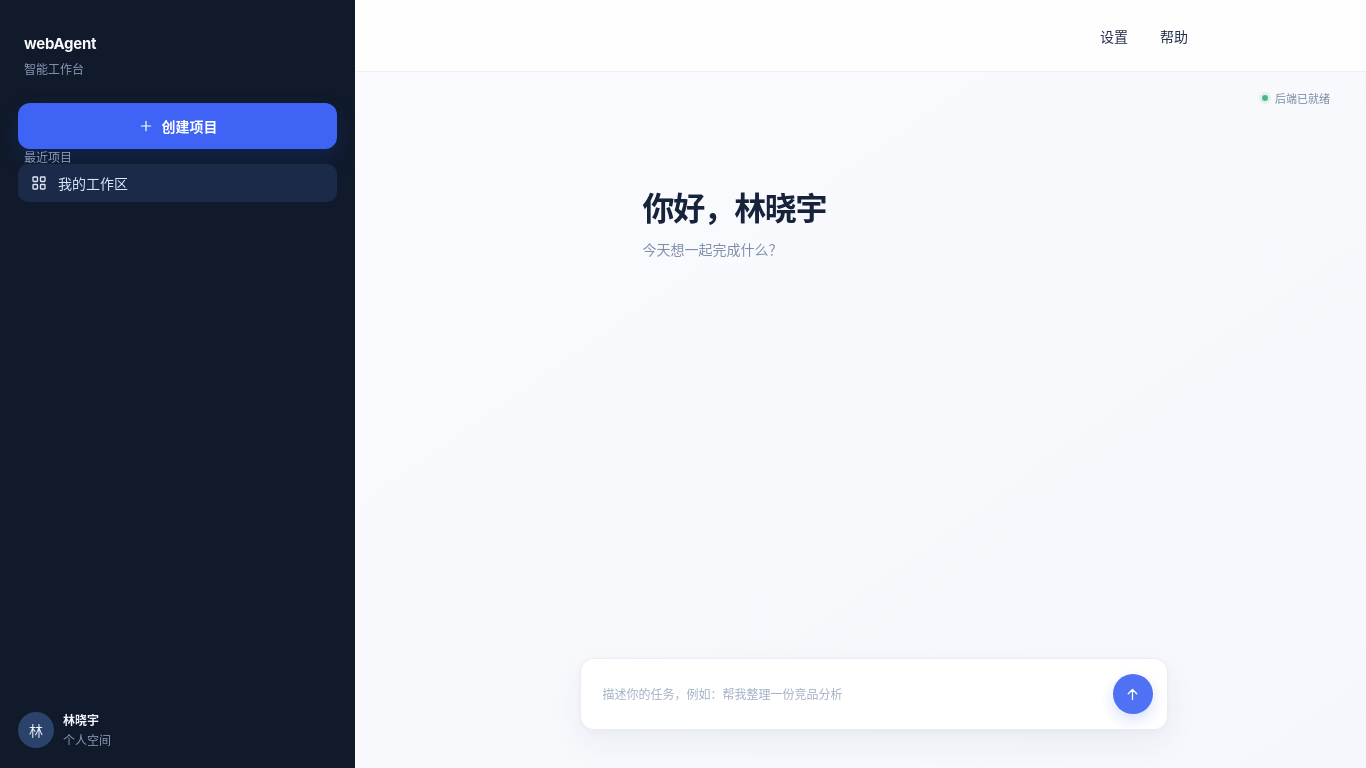
Test: 账户设置 › 保存失败时显示本地后端的实际错误，而不是误报资料校验失败
Click the button with aria-label "打开账户设置".
click(36, 730)  # box [18,703,337,748]
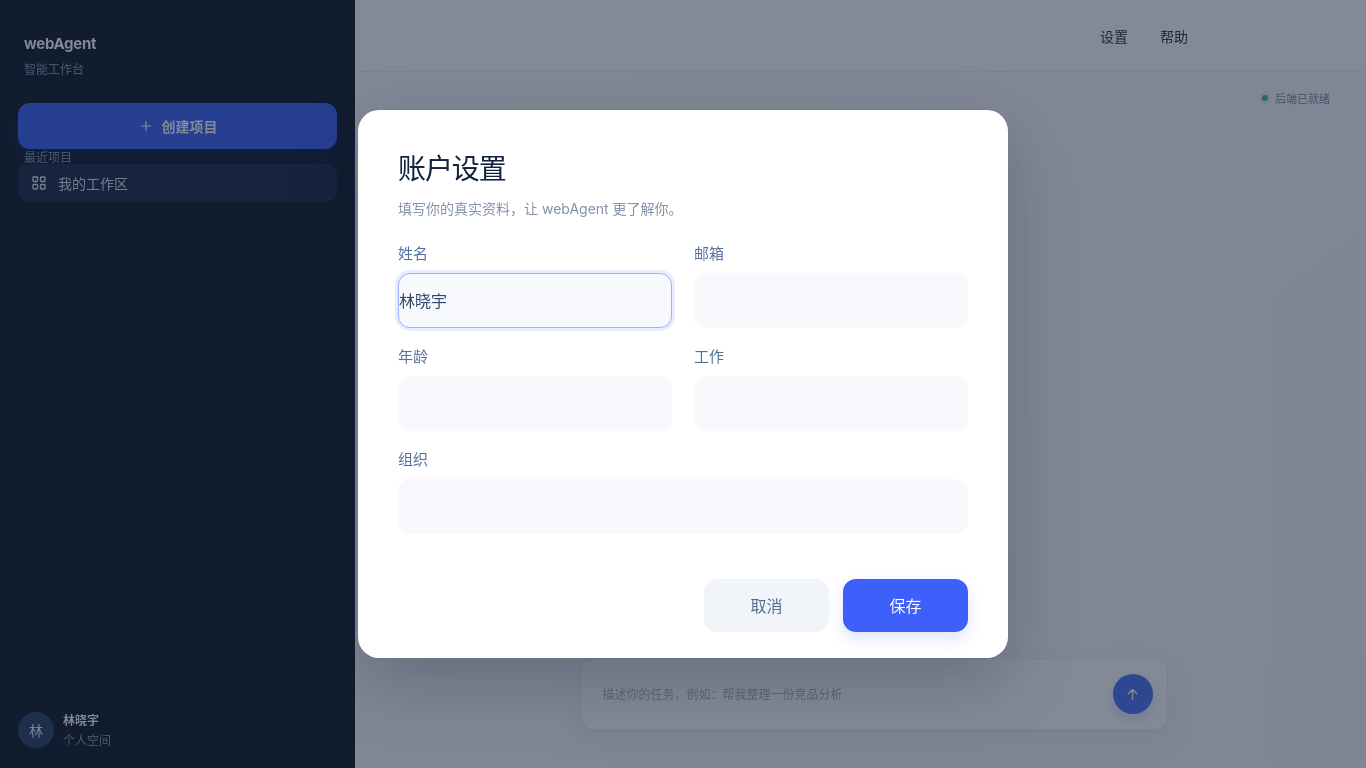
Click the button "保存".
click(906, 605)  # box [843,579,968,632]
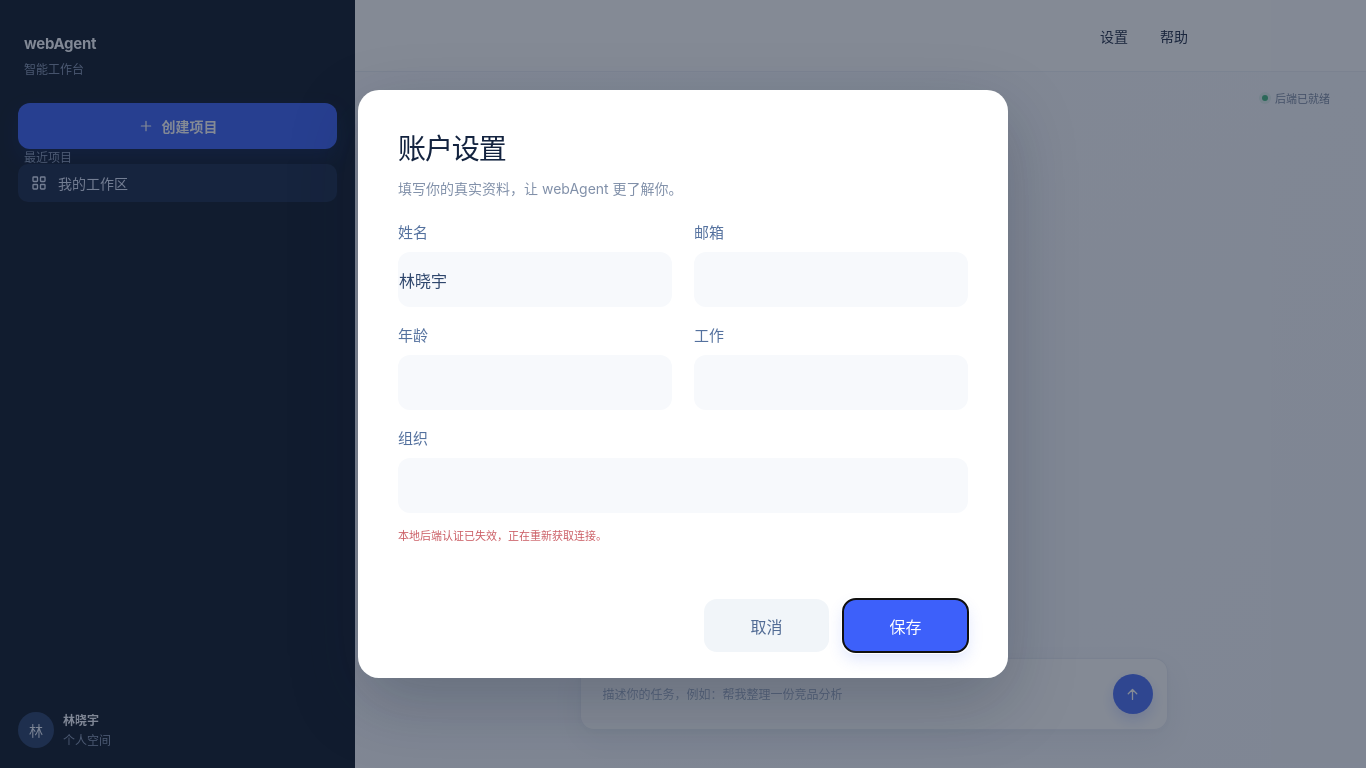
Check: the message reads "本地后端认证已失效，正在重新获取连接。", box [398,529,607,543]
